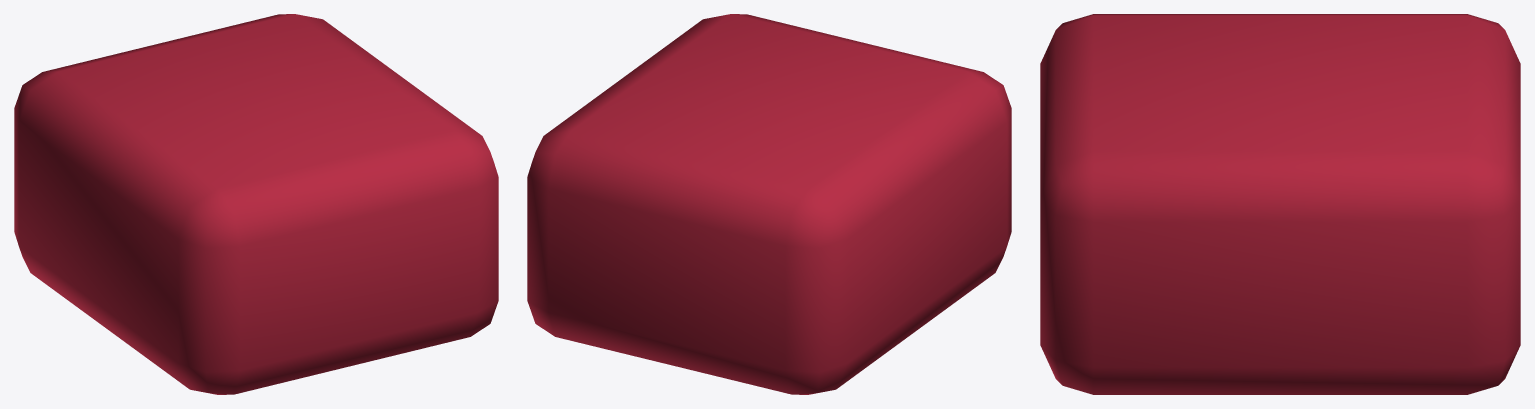
Rendered from GEO_SUV_Mirror_Housing_R.glb.
3 views of the same model, side by side, from view 1: azimuth 30°, elevation 25°; view 2: azimuth 150°, elevation 25°; view 3: azimuth 270°, elevation 25° (orthographic). The views are drawn at different scales.
Visible parts, largest first — view 1: GEO_SUV_Mirror_Housing_R; view 2: GEO_SUV_Mirror_Housing_R; view 3: GEO_SUV_Mirror_Housing_R.
Part boxes in pixels (bbox=[...]): GEO_SUV_Mirror_Housing_R: bbox=[14, 14, 498, 394]; GEO_SUV_Mirror_Housing_R: bbox=[527, 14, 1011, 394]; GEO_SUV_Mirror_Housing_R: bbox=[1040, 14, 1520, 394].
Bounding box in the file's own units: 0.16 × 0.1 × 0.18.
